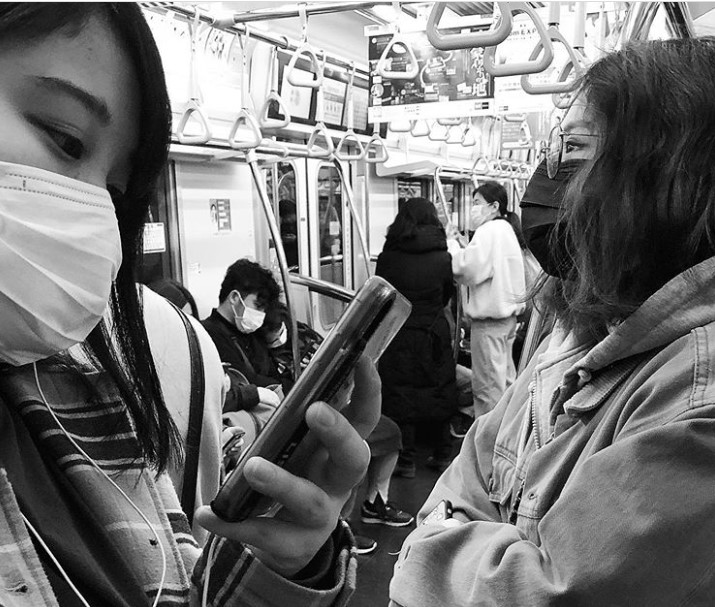face_with_mask: (0, 6, 171, 372), (515, 40, 715, 297), (219, 258, 276, 336), (463, 184, 505, 231), (265, 302, 292, 355)
